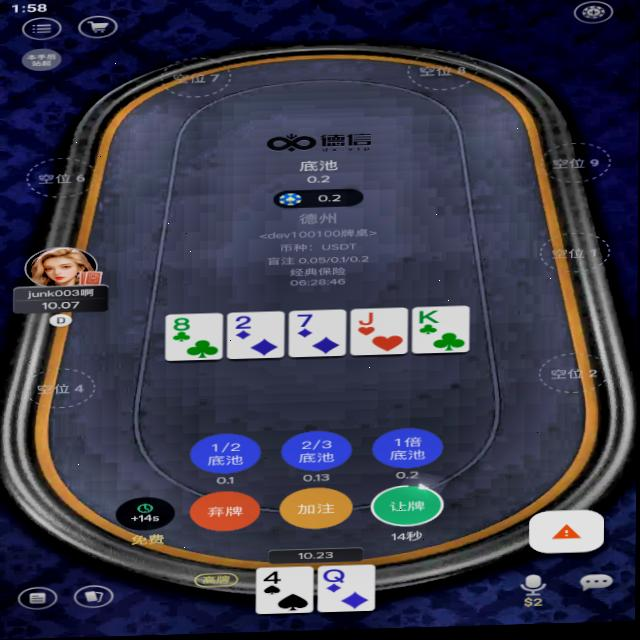2f: (232, 316, 256, 333)
4s: (260, 571, 286, 587)
7f: (294, 314, 316, 331)
8m: (170, 317, 196, 334)
Jh: (356, 312, 381, 329)
Km: (418, 311, 442, 328)
Qf: (323, 570, 347, 586)
